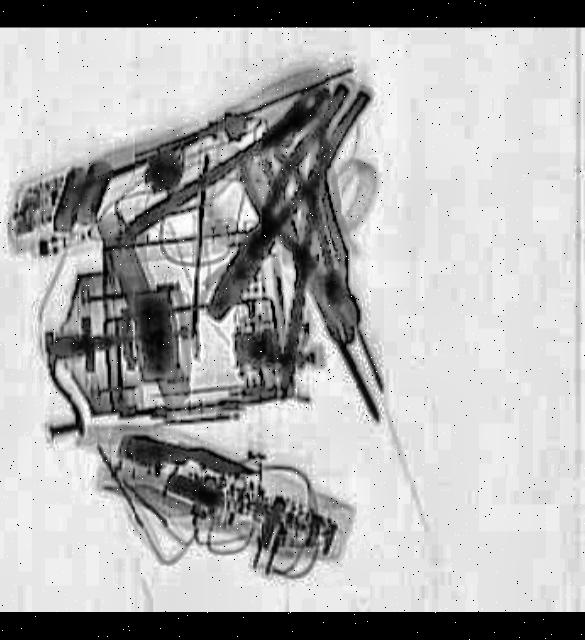Pliers: (194, 76, 378, 334), (228, 140, 389, 346), (270, 154, 378, 354)
